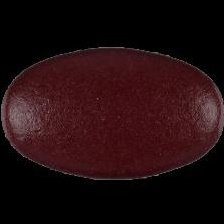50090-0167: (0, 0, 224, 224)
